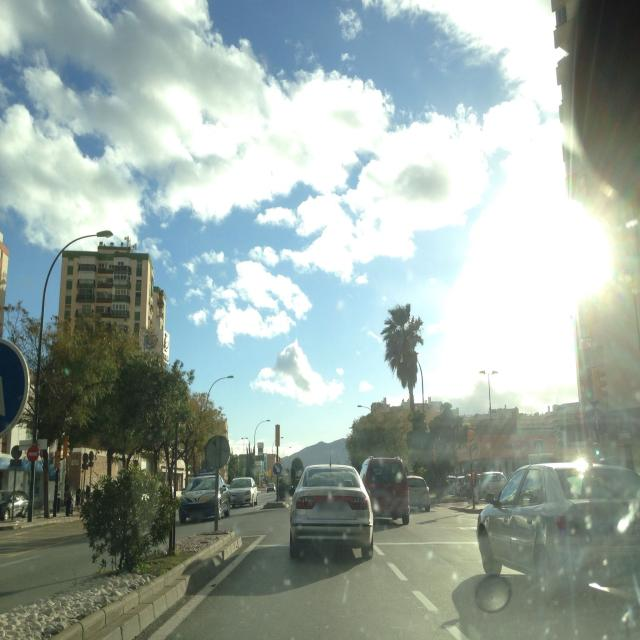car: (476, 461, 640, 616), (288, 463, 374, 561), (359, 456, 410, 525), (178, 474, 231, 523), (476, 471, 508, 502), (228, 477, 258, 508), (407, 474, 431, 512), (0, 490, 28, 522), (266, 482, 276, 493)
